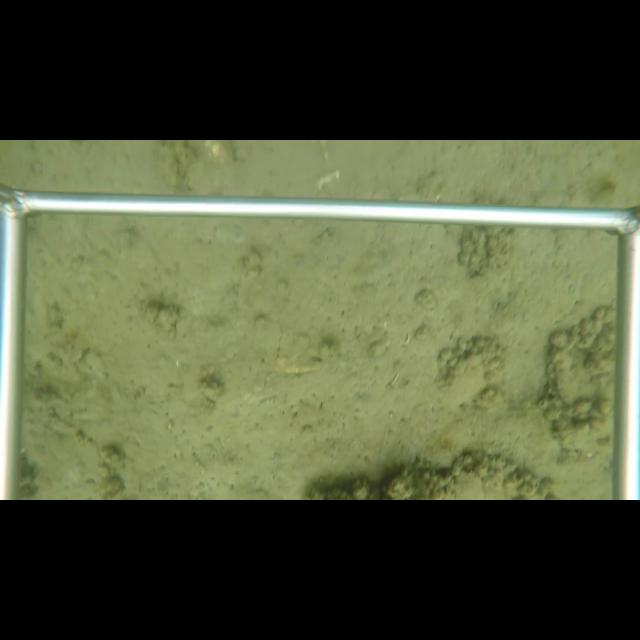Oyster-Open: (547, 360, 583, 408)
